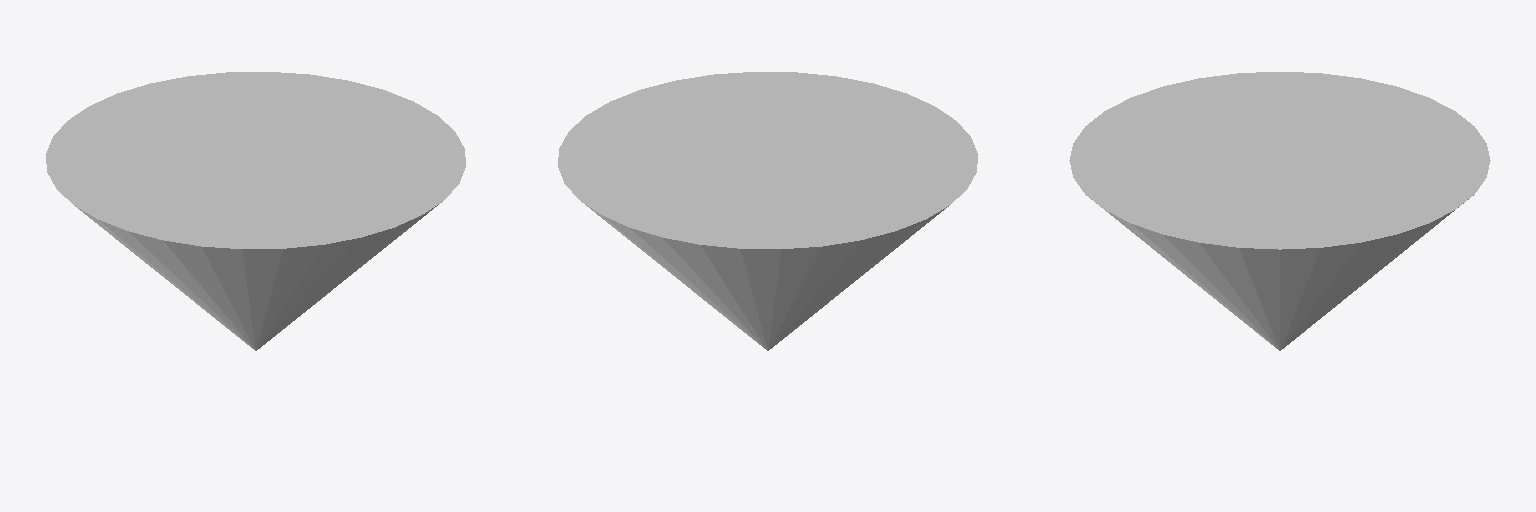
File: spotlight.obj
3 renders of one model, left to right at view 1: azimuth 30°, elevation 25°; view 2: azimuth 150°, elevation 25°; view 3: azimuth 270°, elevation 25°, orthographic.
Parts seen in each view (by area): view 1: Cone; view 2: Cone; view 3: Cone.
Boxes of the visible parts, <box> form: Cone: <box>46,72,465,350</box>; Cone: <box>558,72,977,350</box>; Cone: <box>1069,72,1490,350</box>.
Size of the model in its own units: 1 by 0.5 by 1.